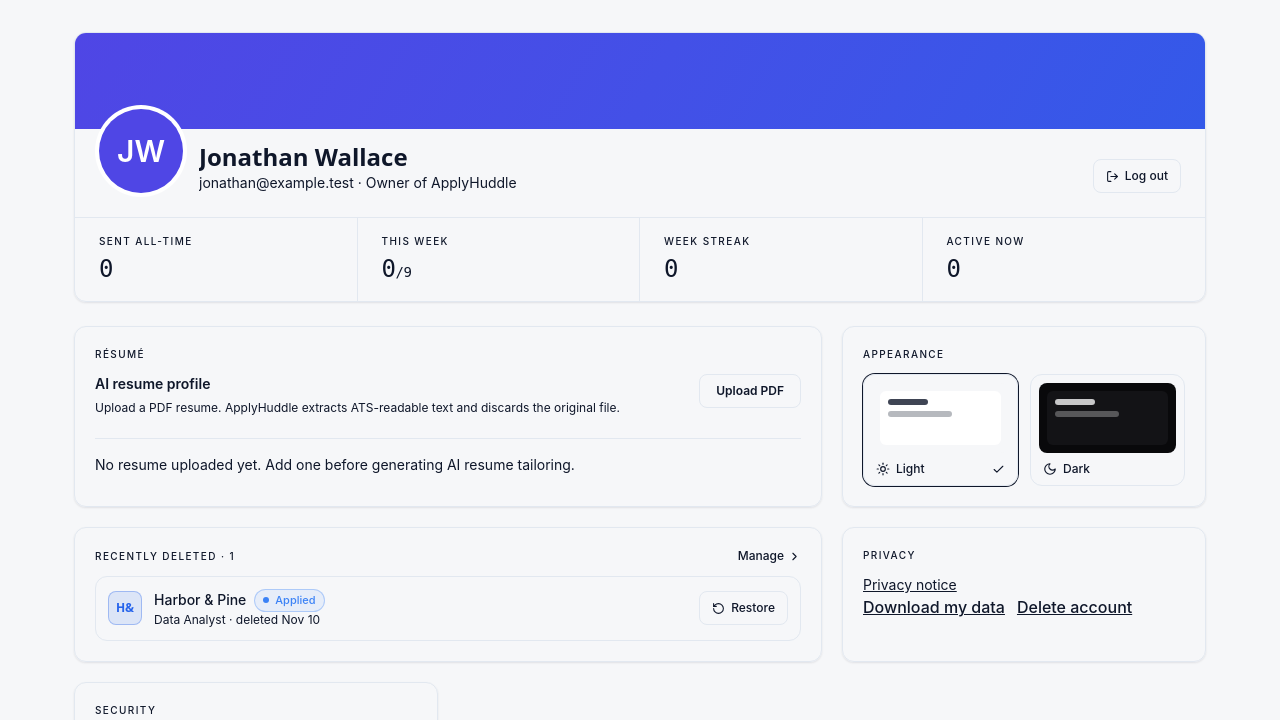
ProfileHub › previews recently deleted applications and opens the full bin
Check: the heading "Recently deleted · 1" is shown, box [95,548,235,564]
Click the button "Manage" at (769, 556), box [738,548,801,564]
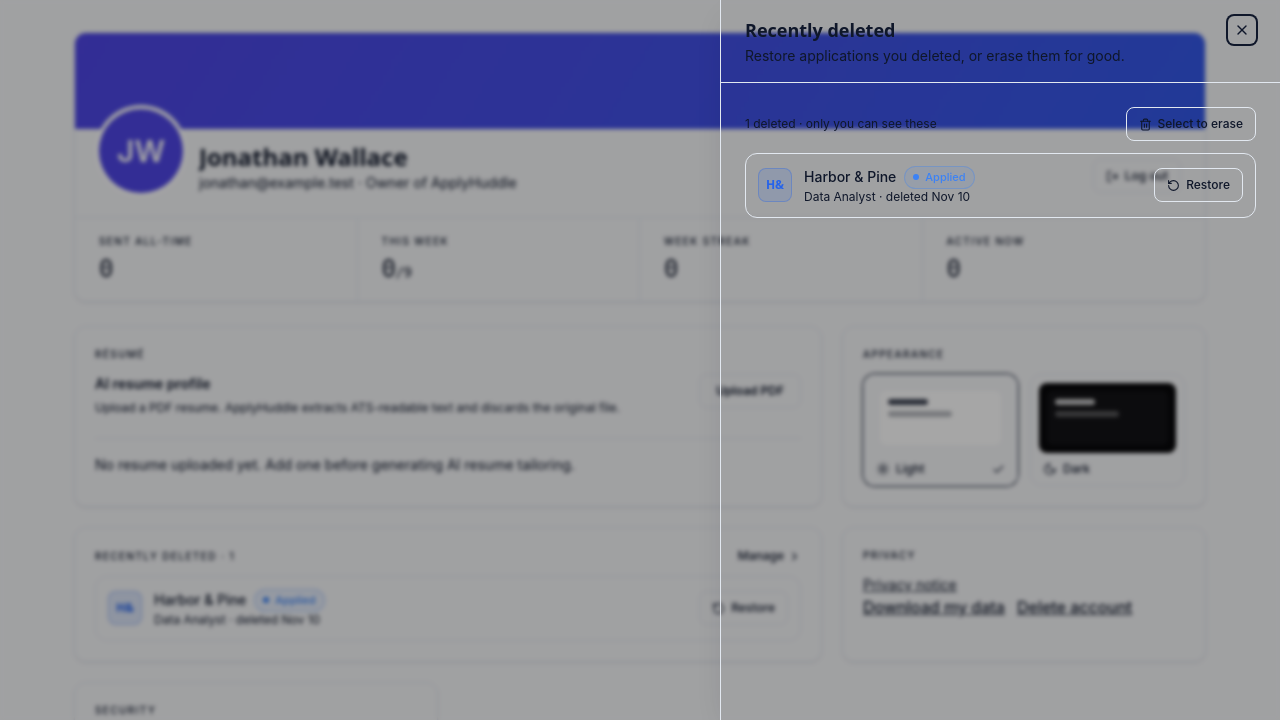
Check: the text "Harbor & Pine" is shown, box [804,167,896,187]
Check: the button "Select to erase" is shown, box [1126,107,1256,141]
Click the 2nd button named "Close" at (1242, 30), box [1228,16,1256,44]
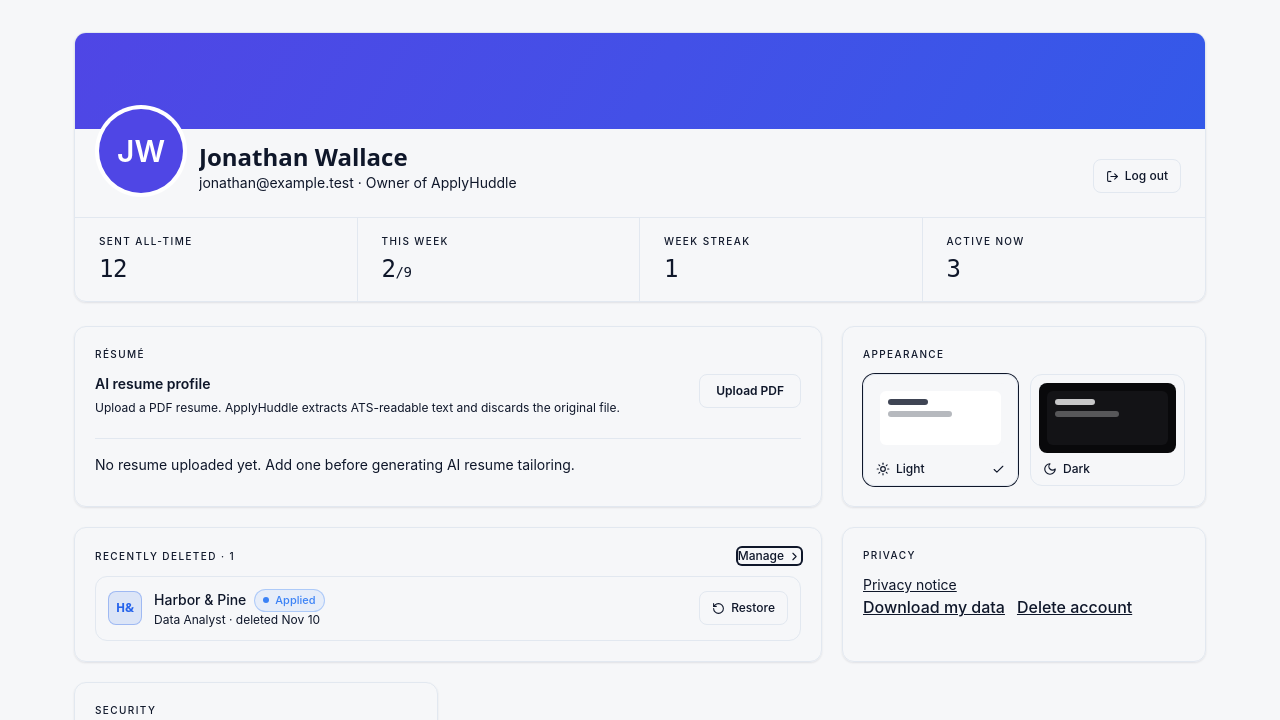
Check: the dialog is gone
